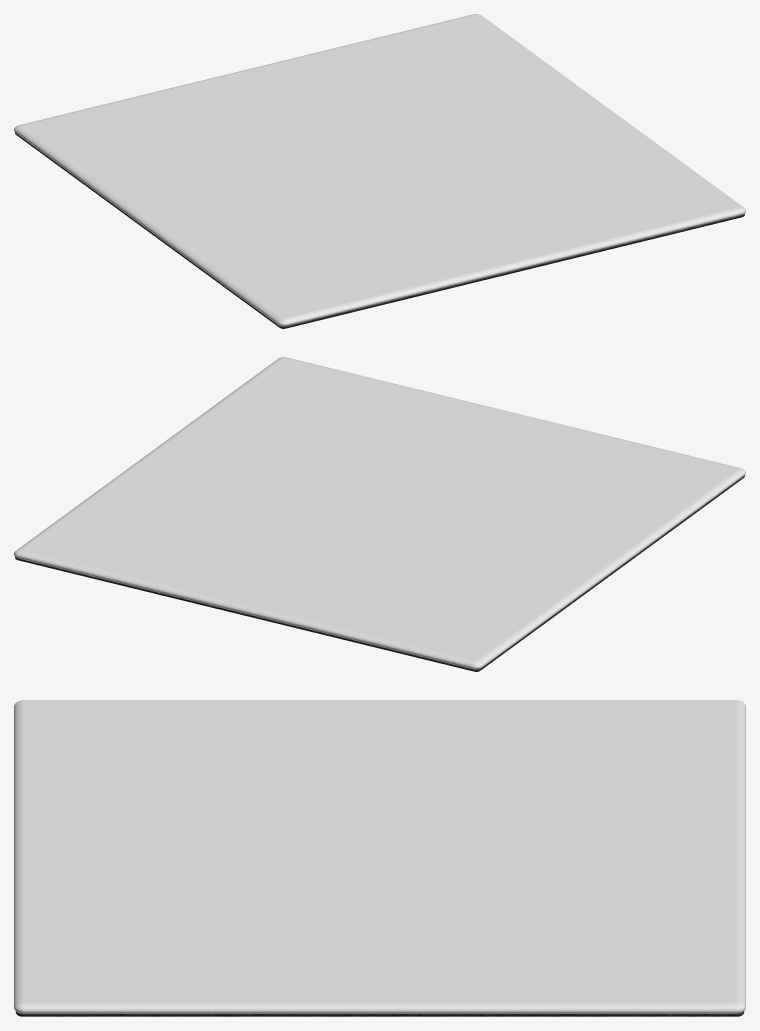
3 views of the same model, one above another, from view 1: azimuth 30°, elevation 25°; view 2: azimuth 150°, elevation 25°; view 3: azimuth 270°, elevation 25° (orthographic). The views are drawn at different scales.
Visible parts, largest first — view 1: Cube.001; view 2: Cube.001; view 3: Cube.001.
Boxes of the visible parts, x1,y1,x2,y2 form: Cube.001: [14, 14, 745, 328]; Cube.001: [14, 357, 745, 671]; Cube.001: [14, 700, 745, 1016].
Bounding box in the file's own units: 0.2 × 0.00379 × 0.2.
Materials: 2 (1 with a texture image).
